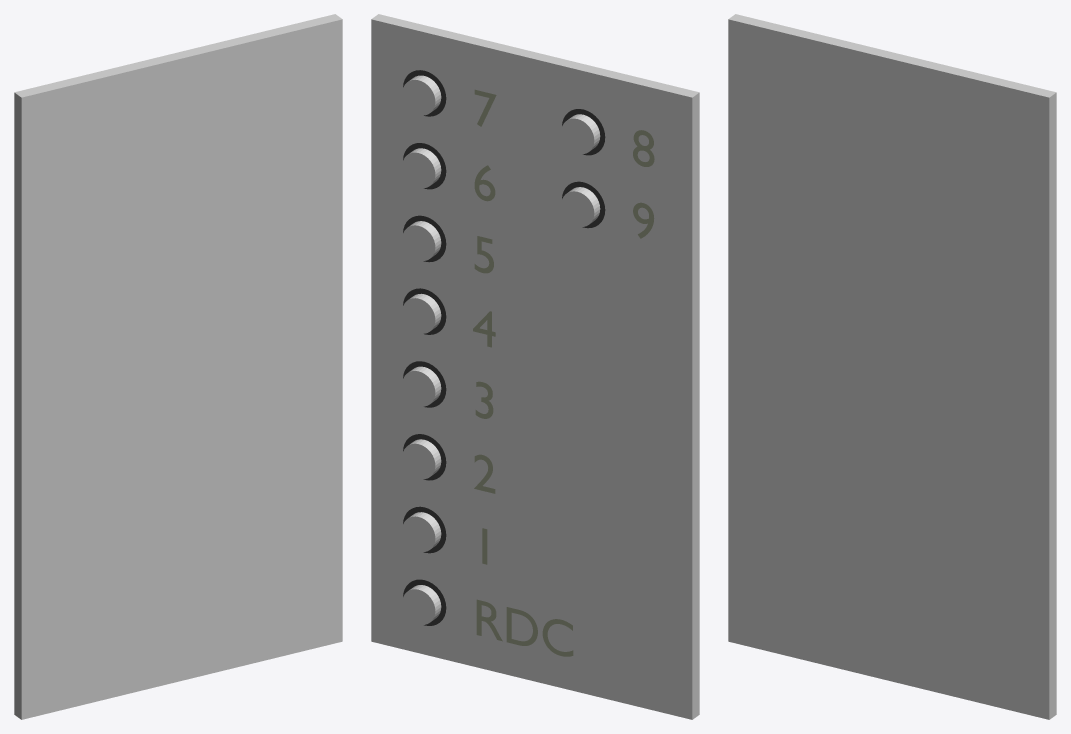
File: CabinControlPanel.fbx
The picture shows the model from 3 angles, left to right: view 1: azimuth 30°, elevation 25°; view 2: azimuth 150°, elevation 25°; view 3: azimuth 330°, elevation 25°; orthographic projection.
Visible parts, largest first — view 1: ControlPanel; view 2: ControlPanel, Floor, Cylinder.006, Cylinder.008, Cylinder.002, Cylinder.001, Cylinder.005, Cylinder.007, Cylinder.009, Cylinder, Cylinder.003, Cylinder.004; view 3: ControlPanel.
Part boxes in pixels (x1,y1,x2,y2): ControlPanel: (14, 14, 342, 719); ControlPanel: (371, 14, 699, 719); Floor: (476, 599, 573, 656); Cylinder.006: (402, 148, 441, 188); Cylinder.008: (561, 114, 600, 154); Cylinder.002: (402, 439, 441, 479); Cylinder.001: (402, 512, 441, 552); Cylinder.005: (402, 221, 441, 260); Cylinder.007: (402, 75, 441, 115); Cylinder.009: (561, 187, 600, 226); Cylinder: (402, 585, 441, 624); Cylinder.003: (402, 366, 441, 406); Cylinder.004: (402, 293, 441, 333); ControlPanel: (728, 14, 1056, 719).
Size of the model in its own units: 32.33 by 59.86 by 2.51.
